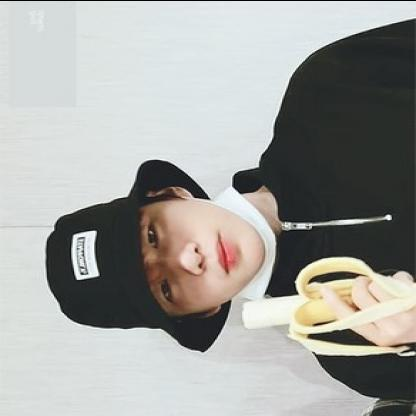hat: (42, 156, 233, 352)
